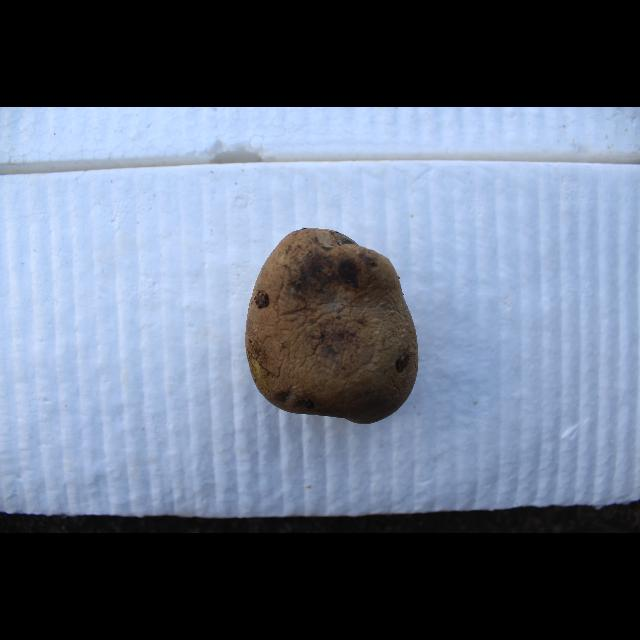Diseased-fungal potato: (242, 221, 420, 427)
